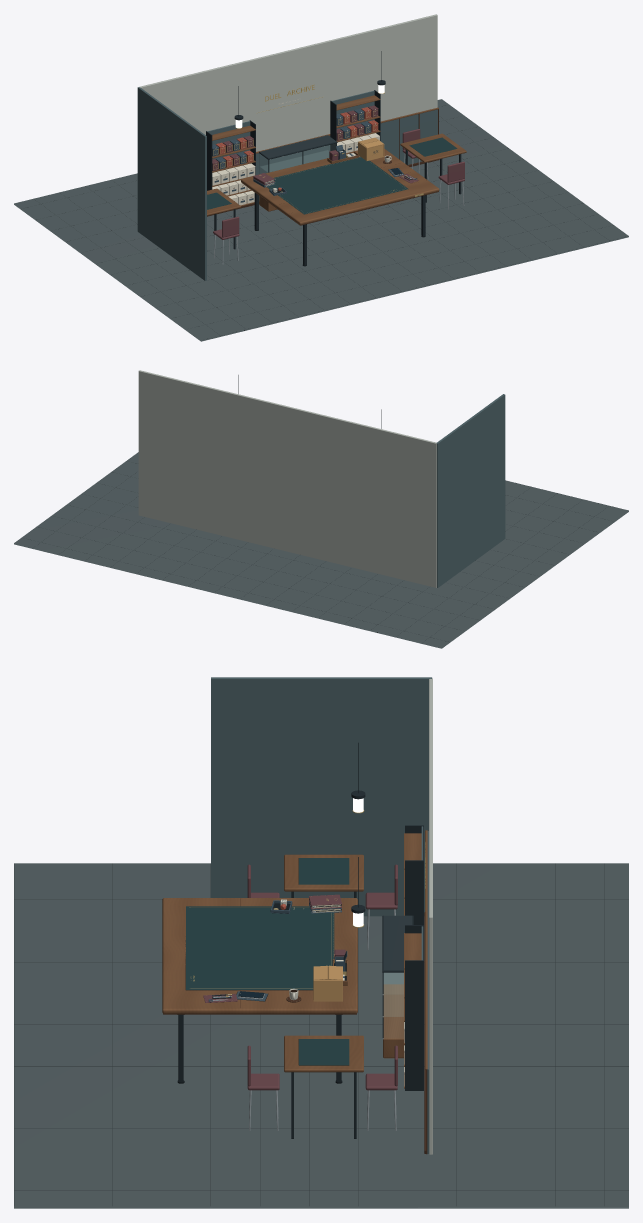
The model's file is card-shop.glb.
3 views of the same model, one above another, from view 1: azimuth 30°, elevation 25°; view 2: azimuth 150°, elevation 25°; view 3: azimuth 270°, elevation 25° (orthographic). The views are drawn at different scales.
Parts seen in each view (by area): view 1: Room / Floor charcoal tile, Room / Warm plaster, Room / Shop wall panels, Mat / Woven teal mat, Desk / Oiled walnut, Room / Oiled walnut, Room / Graphite metal, Room / Oxblood leather, Room / Warm card paper, Room / Fine charcoal printing, Room / Blue leather, Room / Woven teal mat (+4 smaller); view 2: Room / Warm plaster, Room / Floor charcoal tile, Room / Shop wall panels, Room / Fine charcoal printing; view 3: Room / Floor charcoal tile, Room / Shop wall panels, Mat / Woven teal mat, Desk / Oiled walnut, Room / Oiled walnut, Room / Graphite metal, Room / Fine charcoal printing, Room / Woven teal mat, Room / Oxblood leather, Room / Warm plaster, Room / Cabinet glass, Warehouse / Natural kraft cardboard.
Boxes of the visible parts, bbox=[...] form: Room / Floor charcoal tile: bbox=[14, 99, 628, 341]; Room / Warm plaster: bbox=[139, 14, 437, 151]; Room / Shop wall panels: bbox=[137, 87, 437, 280]; Mat / Woven teal mat: bbox=[267, 156, 408, 214]; Desk / Oiled walnut: bbox=[241, 149, 439, 224]; Room / Oiled walnut: bbox=[207, 95, 466, 215]; Room / Graphite metal: bbox=[206, 51, 461, 249]; Room / Oxblood leather: bbox=[212, 105, 464, 239]; Room / Warm card paper: bbox=[212, 99, 379, 205]; Room / Fine charcoal printing: bbox=[27, 105, 625, 339]; Room / Blue leather: bbox=[212, 109, 371, 202]; Room / Woven teal mat: bbox=[207, 137, 457, 209]; Room / Warm plaster: bbox=[138, 370, 436, 587]; Room / Floor charcoal tile: bbox=[14, 452, 628, 648]; Room / Shop wall panels: bbox=[436, 394, 505, 587]; Room / Fine charcoal printing: bbox=[30, 463, 628, 641]; Room / Floor charcoal tile: bbox=[14, 863, 628, 1208]; Room / Shop wall panels: bbox=[211, 677, 431, 1153]; Mat / Woven teal mat: bbox=[186, 906, 334, 989]; Desk / Oiled walnut: bbox=[162, 898, 357, 1013]; Room / Oiled walnut: bbox=[284, 830, 427, 1088]; Room / Graphite metal: bbox=[291, 742, 423, 1138]; Room / Fine charcoal printing: bbox=[14, 863, 628, 1205]; Room / Woven teal mat: bbox=[298, 858, 349, 1065]; Room / Oxblood leather: bbox=[247, 864, 397, 1090]; Room / Warm plaster: bbox=[429, 678, 432, 1154]; Room / Cabinet glass: bbox=[384, 973, 403, 1016]; Warehouse / Natural kraft cardboard: bbox=[313, 966, 342, 1001].
Size of the model in its own units: 66 by 21.47 by 50.01.
Materials: 25 (1 with a texture image).
